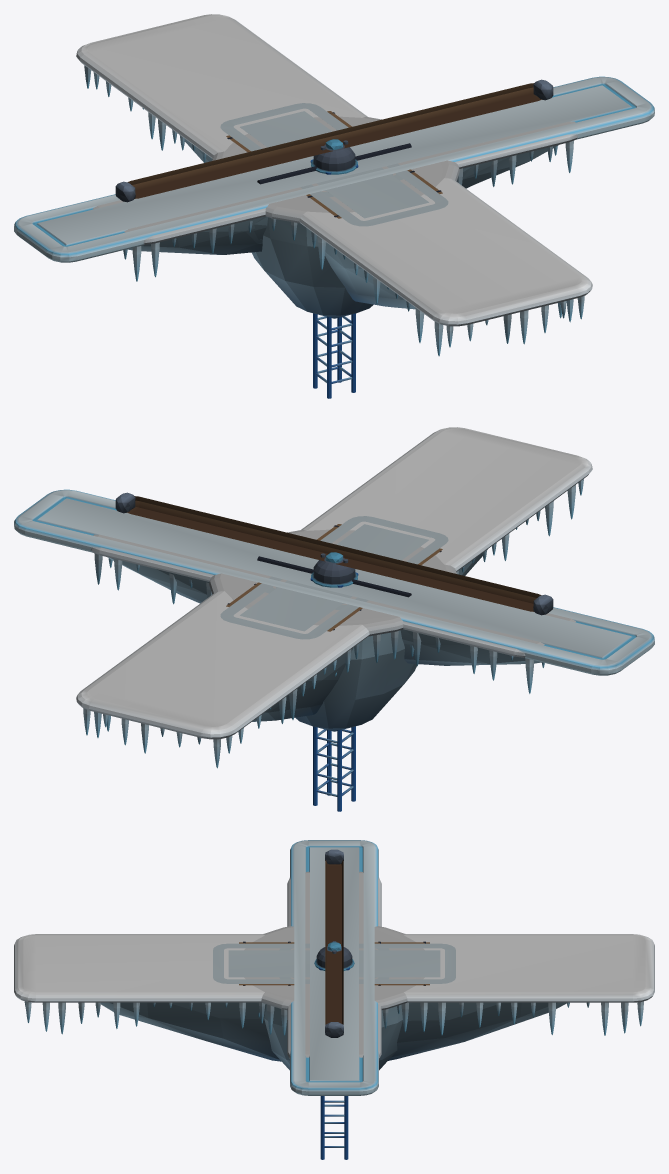
File: glacier-2-D9osg9g1.glb
3 views of the same model, one above another, from view 1: azimuth 30°, elevation 25°; view 2: azimuth 150°, elevation 25°; view 3: azimuth 270°, elevation 25° (orthographic). The views are drawn at different scales.
Parts seen in each view (by area): view 1: block_10x2x43#1, block_40x2x6_ice#1, mount_13.8#0, disc_14x1.5#0, block_7x2x17_ice#1, block_30x2x6_grate#0, truss_14#0, barHub_11x1.2#0; view 2: block_10x2x43#1, block_40x2x6_ice#1, mount_13.8#0, disc_14x1.5#0, block_7x2x17_ice#1, block_30x2x6_grate#0, truss_14#0, barHub_11x1.2#0; view 3: block_10x2x43#1, block_40x2x6_ice#1, block_7x2x17_ice#1, disc_14x1.5#0, mount_13.8#0, block_30x2x6_grate#0, truss_14#0, barHub_11x1.2#0.
Part boxes in pixels (x1,y1,x2,y2): block_10x2x43#1: (76,14,592,356); block_40x2x6_ice#1: (14,76,654,262); mount_13.8#0: (115,79,553,202); disc_14x1.5#0: (212,116,459,318); block_7x2x17_ice#1: (220,103,448,226); block_30x2x6_grate#0: (93,99,577,281); truss_14#0: (310,159,358,398); barHub_11x1.2#0: (257,139,411,184); block_10x2x43#1: (76,427,592,768); block_40x2x6_ice#1: (14,489,654,675); mount_13.8#0: (115,492,553,615); disc_14x1.5#0: (209,529,456,731); block_7x2x17_ice#1: (220,516,448,639); block_30x2x6_grate#0: (91,512,575,693); truss_14#0: (310,572,358,811); barHub_11x1.2#0: (257,552,411,597); block_10x2x43#1: (14,934,654,1061); block_40x2x6_ice#1: (290,840,378,1095); block_7x2x17_ice#1: (213,943,455,983); disc_14x1.5#0: (244,926,424,1070); mount_13.8#0: (325,849,343,1037); block_30x2x6_grate#0: (287,871,381,1058); truss_14#0: (319,967,349,1159); barHub_11x1.2#0: (314,942,354,970).
Bounding box in the file's own units: 40 × 16.2 × 43.36.
